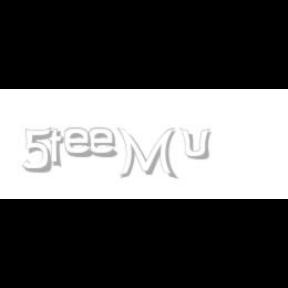5: (22, 128, 54, 174)
M: (116, 128, 176, 180)
e: (64, 128, 98, 158), (88, 128, 122, 158)
t: (47, 128, 69, 168)
u: (180, 128, 214, 160)
